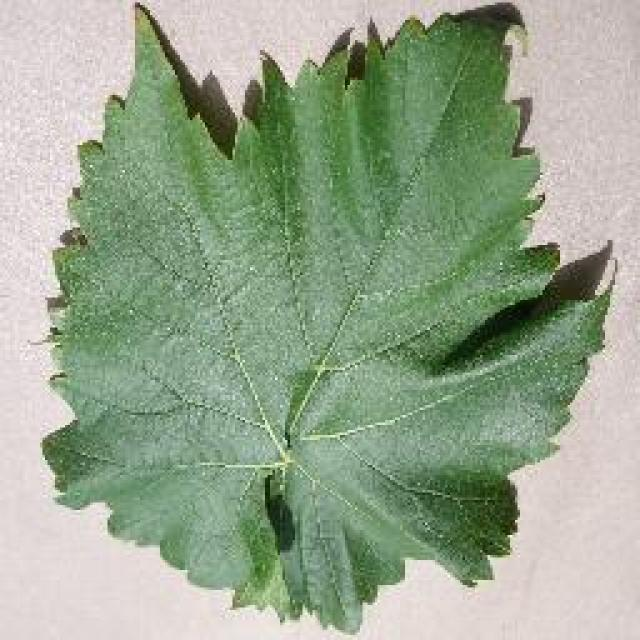Grape___healthy: (11, 2, 625, 638)
